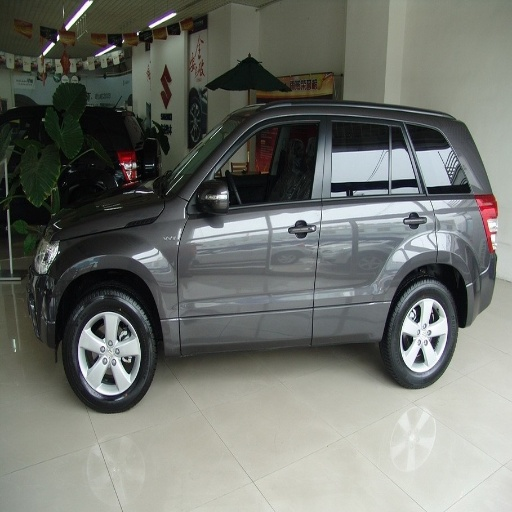back_left_door: (312, 114, 434, 335)
front_left_door: (179, 116, 325, 343)
